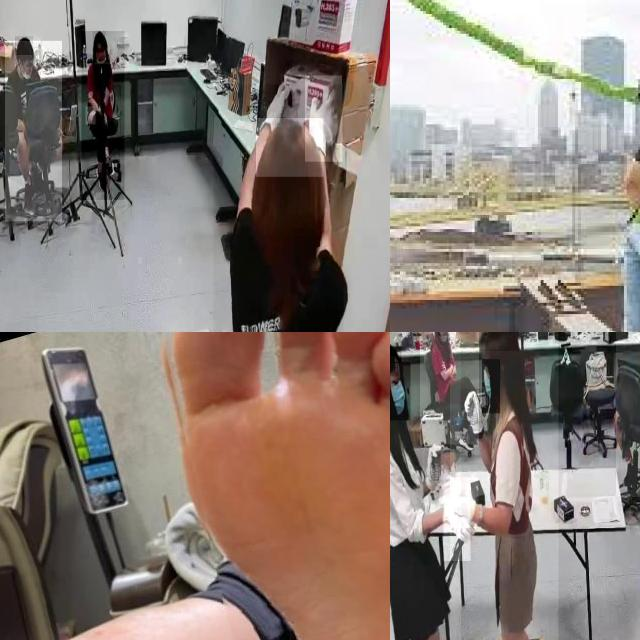Barefoots: (172, 332, 390, 640)
face_mask: (390, 361, 410, 420), (482, 359, 500, 413)
face_nomask: (95, 45, 105, 62), (437, 332, 448, 337)
hand_glove: (305, 76, 343, 162), (262, 71, 292, 135), (444, 497, 471, 561), (450, 477, 478, 528), (459, 388, 484, 442), (425, 448, 443, 495)
hand_noglove: (86, 107, 96, 125), (100, 109, 108, 130), (440, 358, 447, 372), (449, 358, 455, 372)
head_nohelmet: (256, 118, 324, 178), (480, 332, 519, 352), (15, 36, 33, 56), (390, 332, 401, 363), (92, 31, 106, 43)
person: (450, 332, 559, 640), (213, 84, 344, 332), (390, 332, 461, 640), (5, 41, 63, 222), (81, 31, 125, 201), (420, 332, 479, 444), (615, 332, 640, 497)
